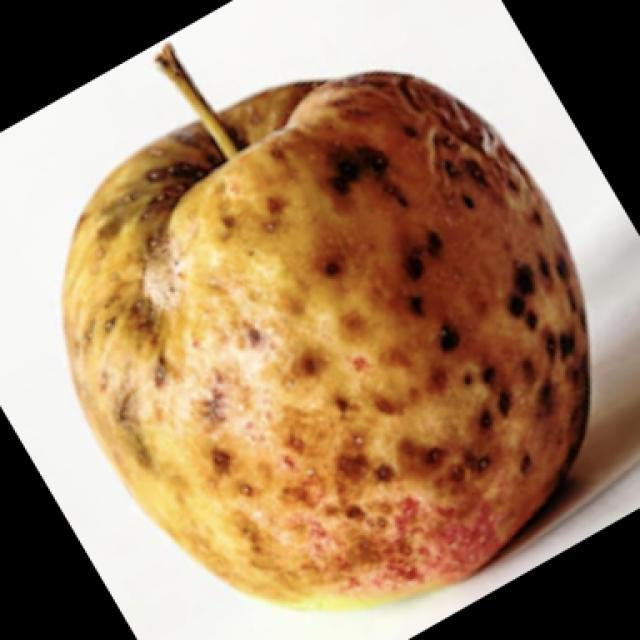Rotten: (68, 65, 570, 608)
